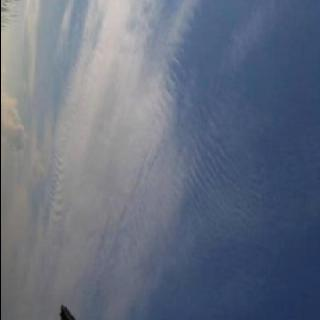Cirrocumulus: (0, 0, 270, 318)
